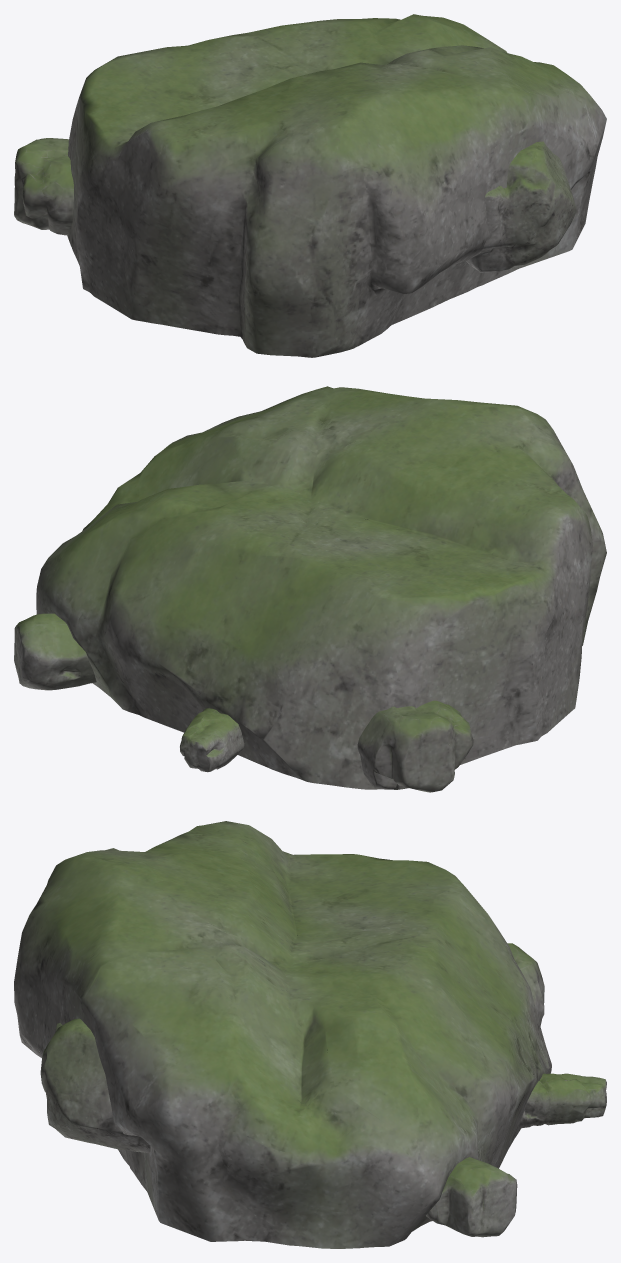
Rendered from fairy_rounded_bank_0.glb.
3 views of the same model, one above another, from view 1: azimuth 30°, elevation 25°; view 2: azimuth 150°, elevation 25°; view 3: azimuth 270°, elevation 25° (orthographic). The views are drawn at different scales.
Visible parts, largest first — view 1: fairy_rounded_bank_0; view 2: fairy_rounded_bank_0; view 3: fairy_rounded_bank_0.
Part boxes in pixels (x1,y1,x2,y2): fairy_rounded_bank_0: (14,14,606,357); fairy_rounded_bank_0: (14,386,606,792); fairy_rounded_bank_0: (14,821,606,1248).
Size of the model in its own units: 6.85 by 3.05 by 6.98.
Materials: 1 (1 with a texture image).
